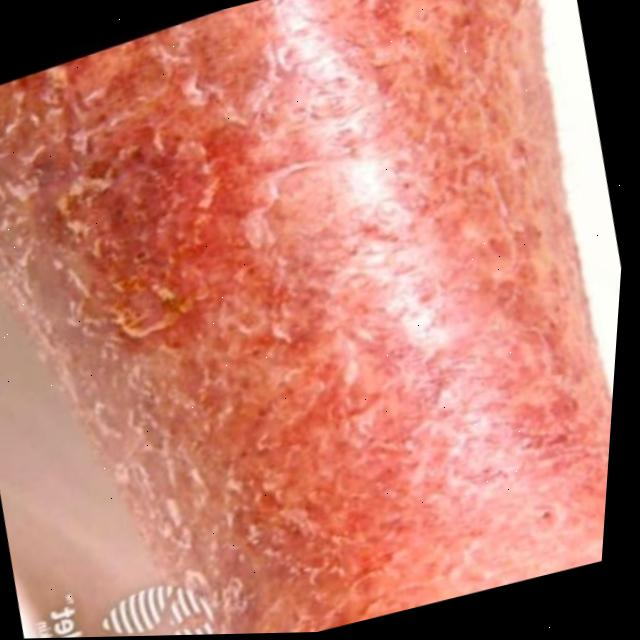Eczema: (19, 0, 599, 639)
